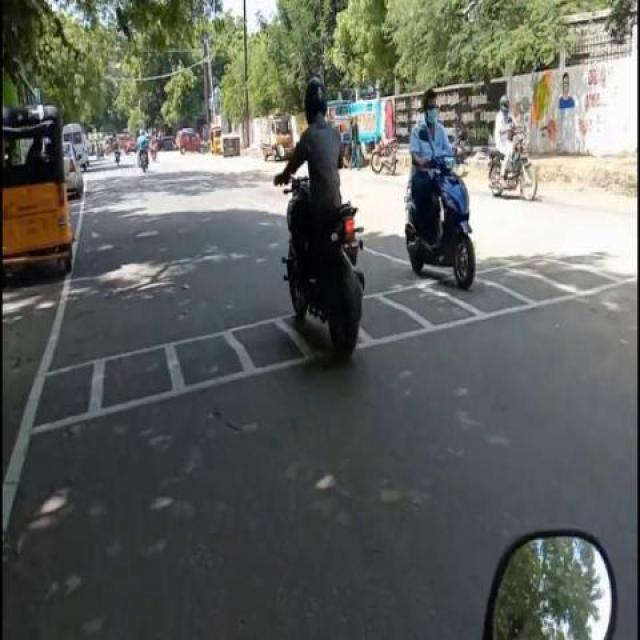Speed Bump: (2, 318, 300, 430), (476, 242, 639, 317), (366, 276, 456, 344)
